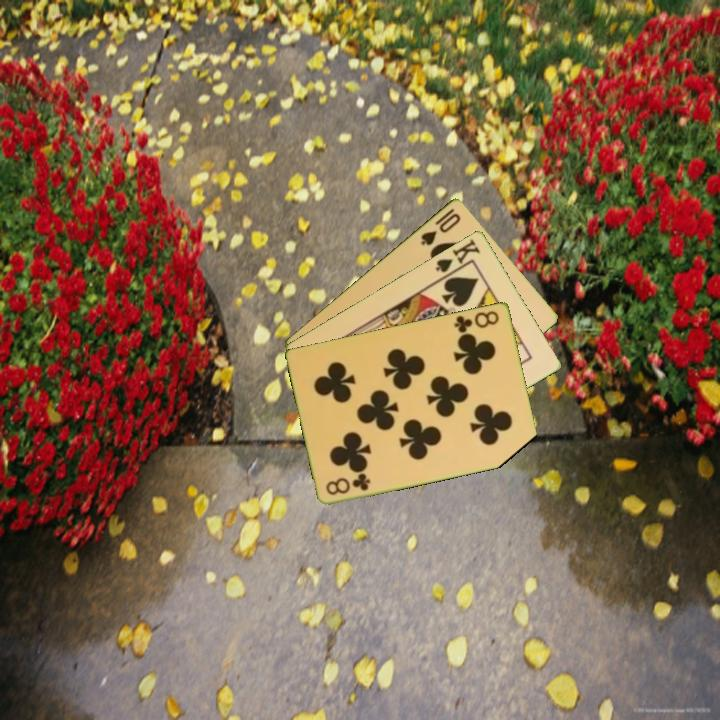10s: (417, 209, 464, 248)
8c: (451, 307, 502, 335), (322, 470, 373, 498)
Ks: (432, 235, 483, 275)
